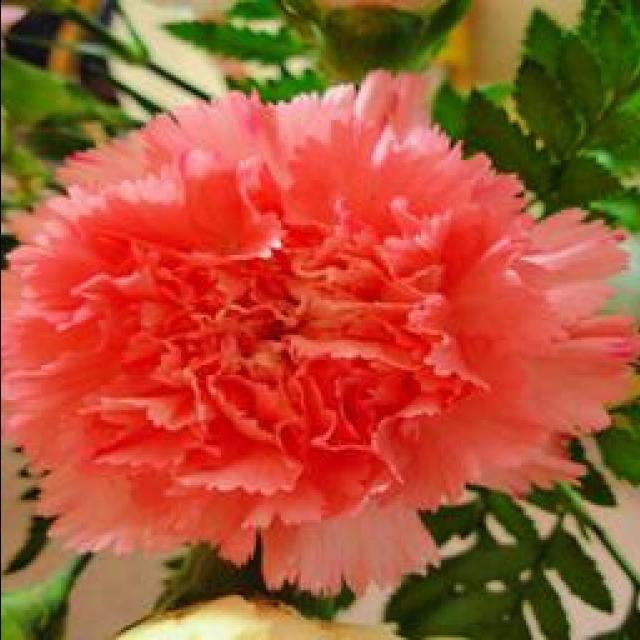carnation: (7, 79, 640, 582)
